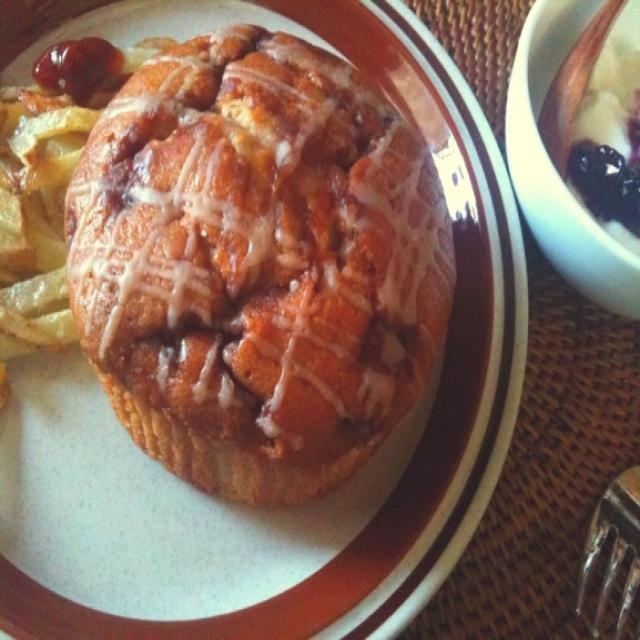炸货点心: (28, 18, 519, 572)
面包点心: (28, 18, 519, 572)
